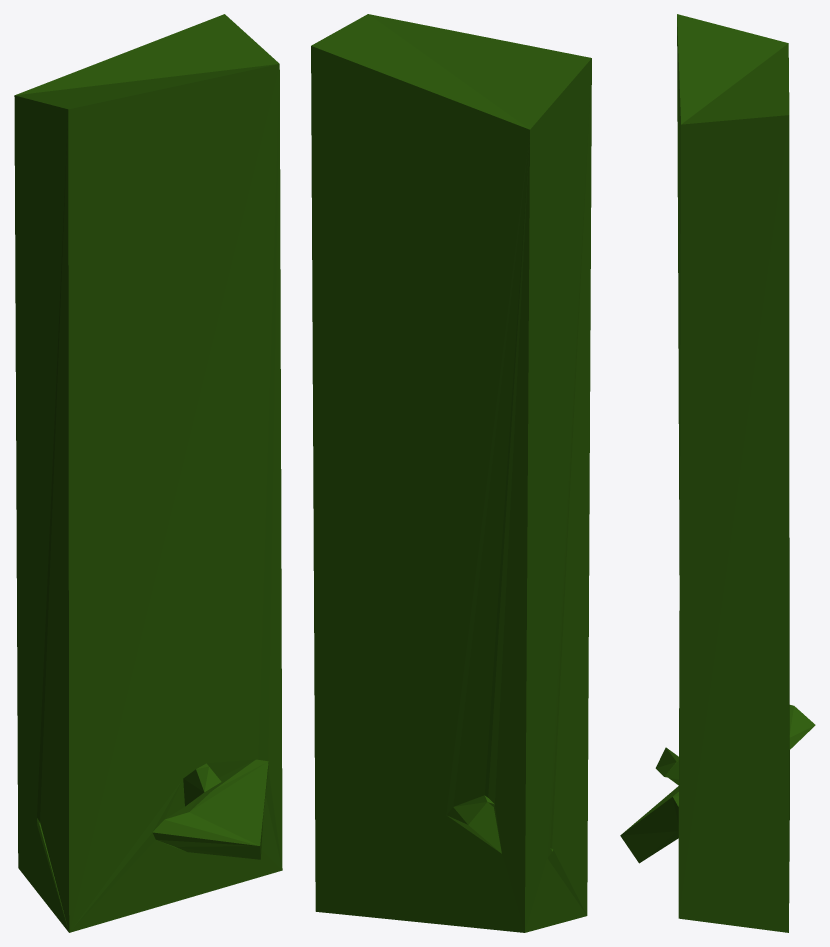
3 renders of one model, left to right at view 1: azimuth 30°, elevation 25°; view 2: azimuth 150°, elevation 25°; view 3: azimuth 270°, elevation 25°, orthographic. The views are drawn at different scales.
Visible parts, largest first — view 1: 256_Cube.1050; view 2: 256_Cube.1050; view 3: 256_Cube.1050.
Part boxes in pixels (bbox=[...]): 256_Cube.1050: bbox=[14, 14, 282, 932]; 256_Cube.1050: bbox=[311, 14, 591, 932]; 256_Cube.1050: bbox=[620, 14, 815, 932].
Bounding box in the file's own units: 3.35 × 12.41 × 2.68.
